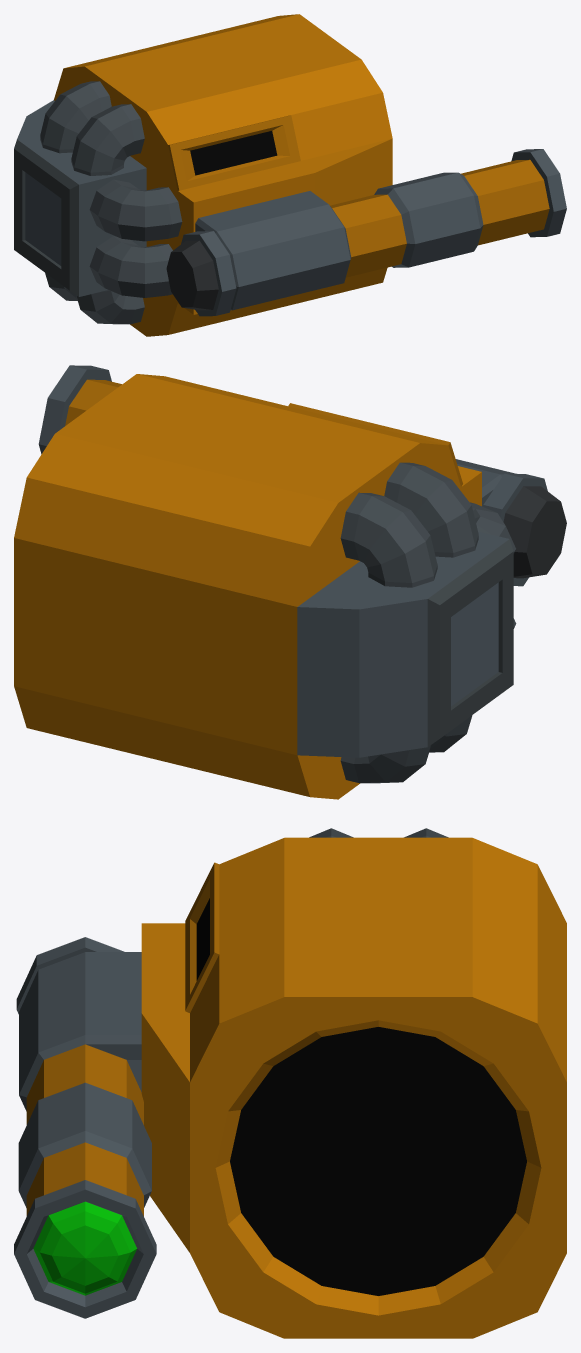
File: Base_Missil_R.obj
The picture shows the model from 3 angles, top to bottom: view 1: azimuth 30°, elevation 25°; view 2: azimuth 150°, elevation 25°; view 3: azimuth 270°, elevation 25°; orthographic projection. The views are drawn at different scales.
Parts seen in each view (by area): view 1: Base_MIssel_R_Trackless_Engine.001_Cylinder.000; view 2: Base_MIssel_R_Trackless_Engine.001_Cylinder.000; view 3: Base_MIssel_R_Trackless_Engine.001_Cylinder.000.
Part boxes in pixels (x1,y1,x2,y2): Base_MIssel_R_Trackless_Engine.001_Cylinder.000: (14, 14, 566, 336); Base_MIssel_R_Trackless_Engine.001_Cylinder.000: (14, 365, 566, 799); Base_MIssel_R_Trackless_Engine.001_Cylinder.000: (14, 828, 566, 1338).
Bounding box in the file's own units: 1.16 × 0.6066 × 0.8898.
Materials: 1 (1 with a texture image).
